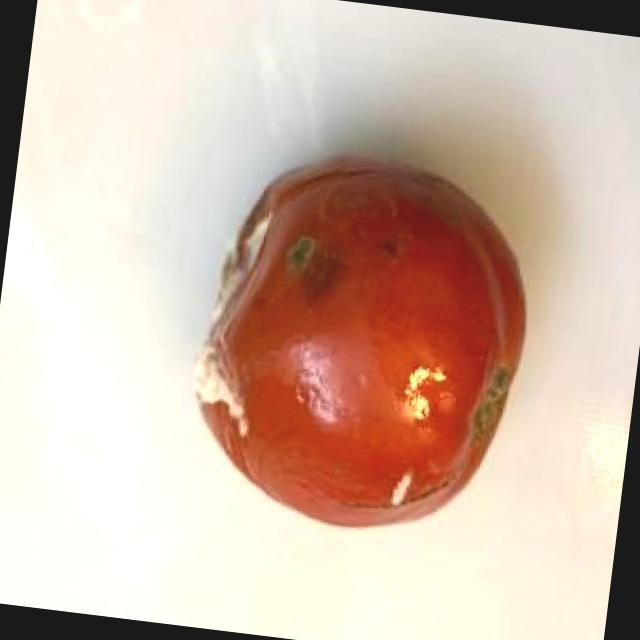Rotten_Tomato: (164, 130, 556, 560)
